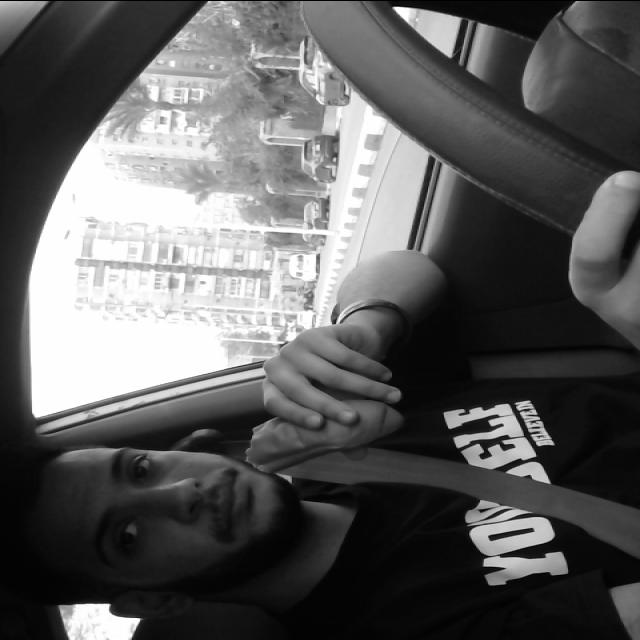eating: (239, 392, 416, 476)
